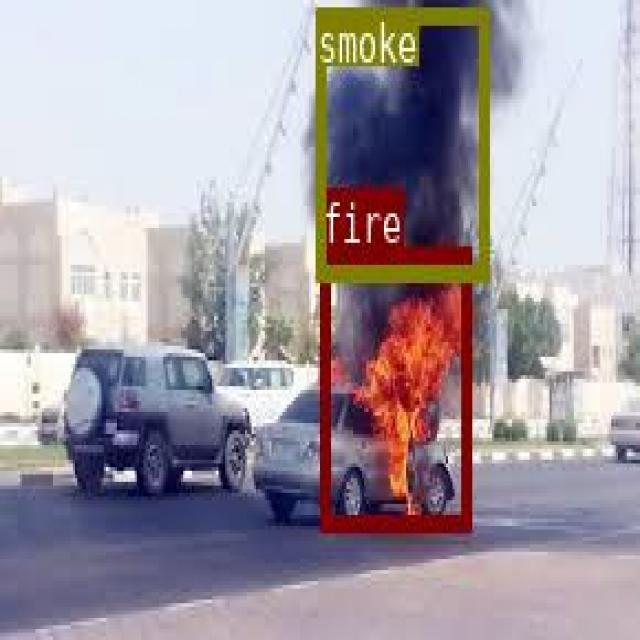fire: (318, 244, 470, 527)
smoke: (314, 6, 487, 279)
